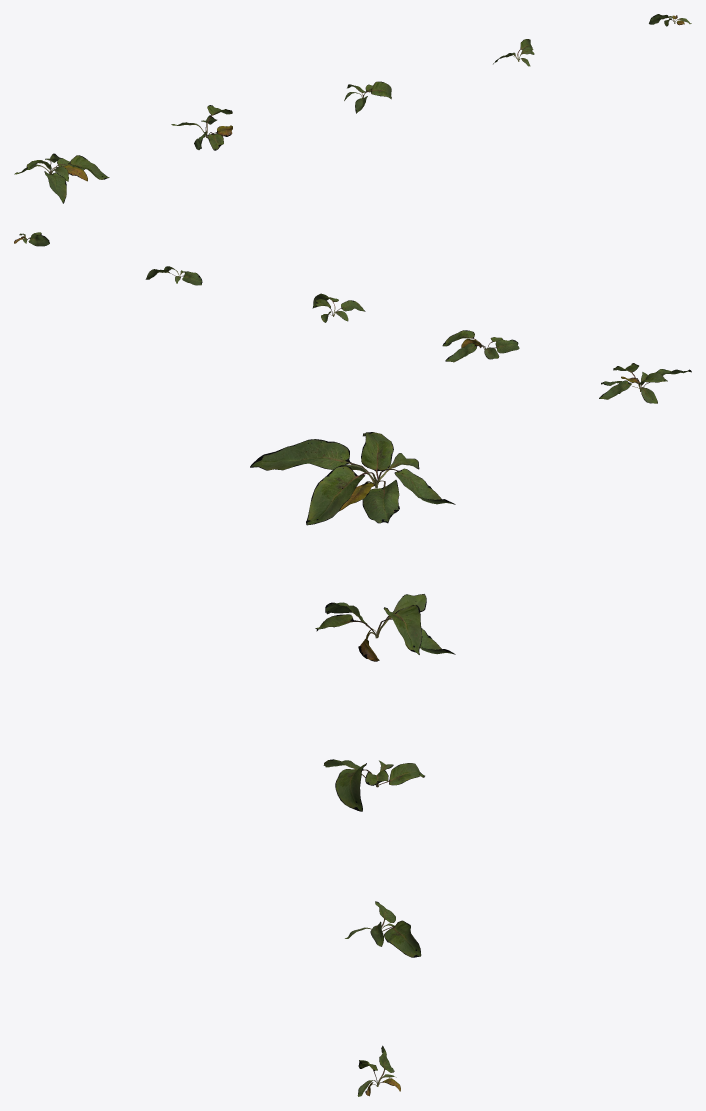
The model's file is weed_plant_02.glb.
3 renders of one model, top to bottom at view 1: azimuth 30°, elevation 25°; view 2: azimuth 150°, elevation 25°; view 3: azimuth 270°, elevation 25°, orthographic. The views are drawn at different scales.
Parts seen in each view (by area): view 1: weed_plant_02_a_LOD0, weed_plant_02_b_LOD0, weed_plant_02_c_LOD0, weed_plant_02_d_LOD0; view 2: weed_plant_02_a_LOD0, weed_plant_02_b_LOD0, weed_plant_02_c_LOD0, weed_plant_02_d_LOD0, weed_plant_02_e_LOD0; view 3: weed_plant_02_a_LOD0, weed_plant_02_b_LOD0, weed_plant_02_c_LOD0, weed_plant_02_d_LOD0.
Part boxes in pixels (x1=…): weed_plant_02_a_LOD0: x1=14, y1=153, x2=109, y2=203; weed_plant_02_b_LOD0: x1=171, y1=105, x2=232, y2=150; weed_plant_02_c_LOD0: x1=344, y1=81, x2=391, y2=113; weed_plant_02_d_LOD0: x1=493, y1=39, x2=534, y2=66; weed_plant_02_a_LOD0: x1=599, y1=363, x2=691, y2=403; weed_plant_02_b_LOD0: x1=442, y1=330, x2=519, y2=362; weed_plant_02_c_LOD0: x1=312, y1=293, x2=365, y2=322; weed_plant_02_d_LOD0: x1=145, y1=266, x2=202, y2=285; weed_plant_02_e_LOD0: x1=14, y1=232, x2=49, y2=246; weed_plant_02_a_LOD0: x1=250, y1=432, x2=455, y2=525; weed_plant_02_b_LOD0: x1=315, y1=594, x2=455, y2=661; weed_plant_02_c_LOD0: x1=323, y1=759, x2=424, y2=811; weed_plant_02_d_LOD0: x1=345, y1=901, x2=421, y2=957.
Bounding box in the file's own units: 2.13 × 0.0751 × 0.2909.
Materials: 1 (1 with a texture image).
